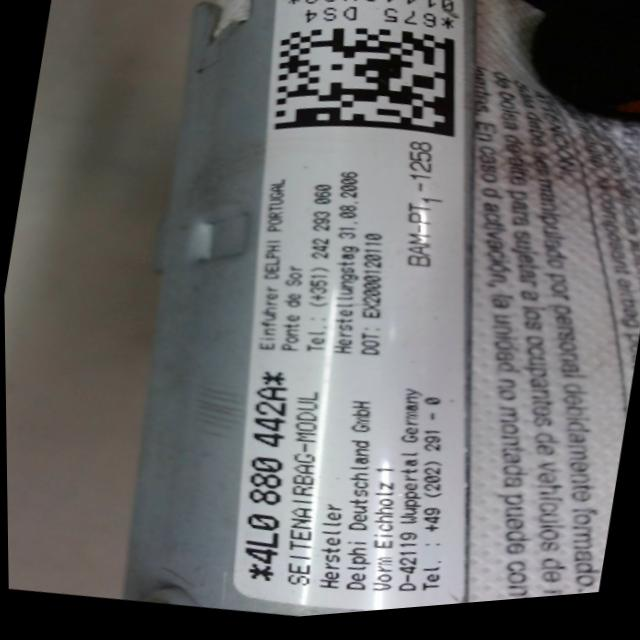datamatrix: (265, 12, 472, 166)
